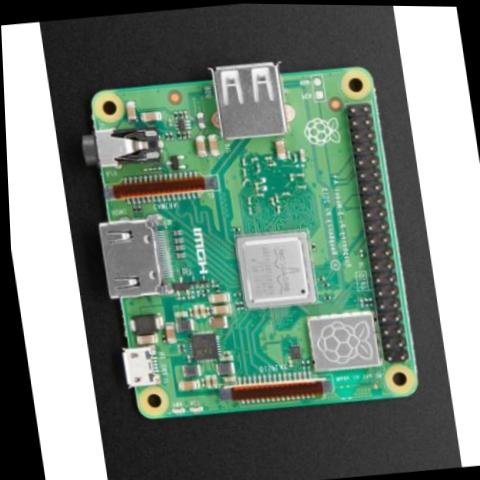Raspberry-Pi-3-Model-A-: (61, 39, 428, 435)
